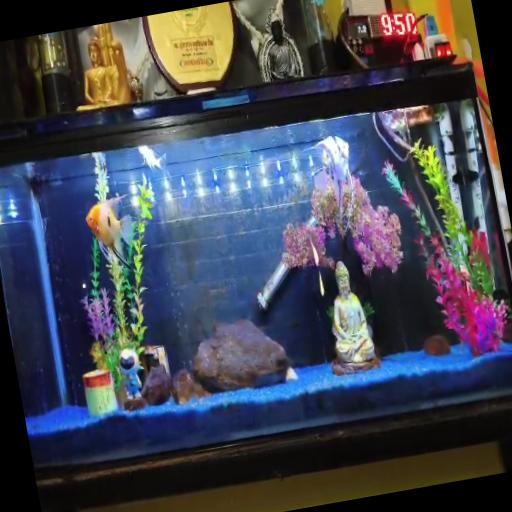Fish: (311, 136, 354, 230), (86, 195, 134, 270), (139, 146, 166, 170), (310, 237, 319, 267)
